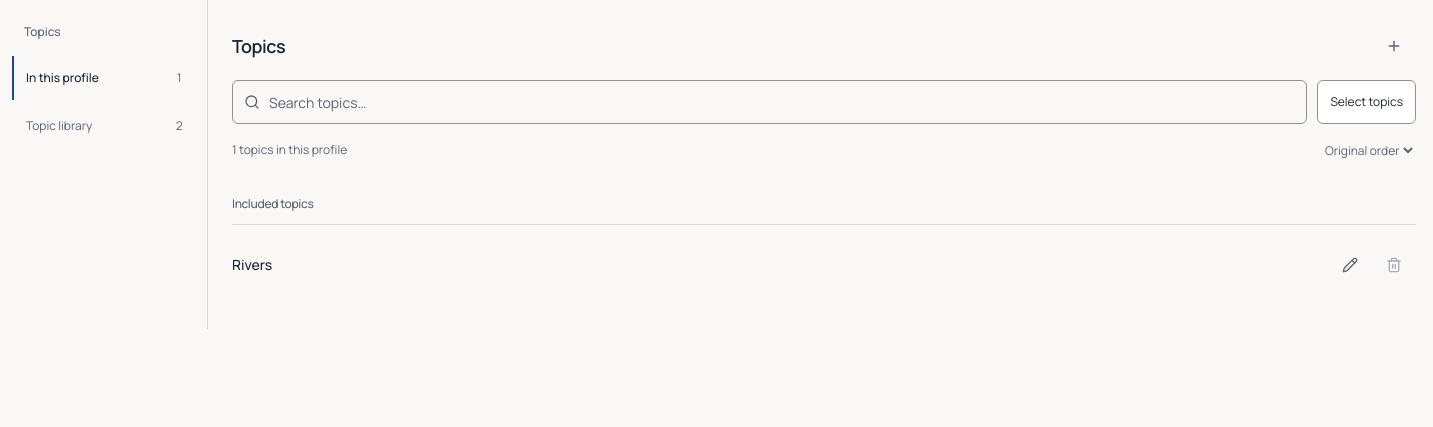
search and sorting do not mutate topic selection; bulk topics are deduplicated
This screenshot has width=1433, height=427.
Later steps or results of the test are not shown.
Type "Coasts" into the search field labelled "Search topics". click: (770, 102)
box: left=232, top=80, right=1307, bottom=124
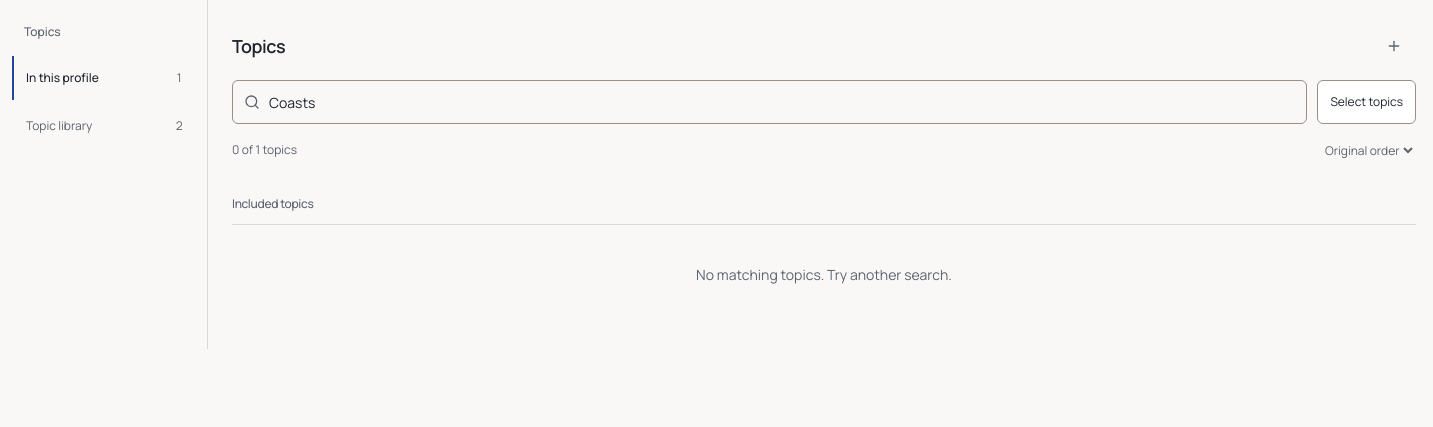
Select "A–Z" in the dropdown named "Sort topics". click: (1368, 150)
box: left=1321, top=128, right=1416, bottom=172
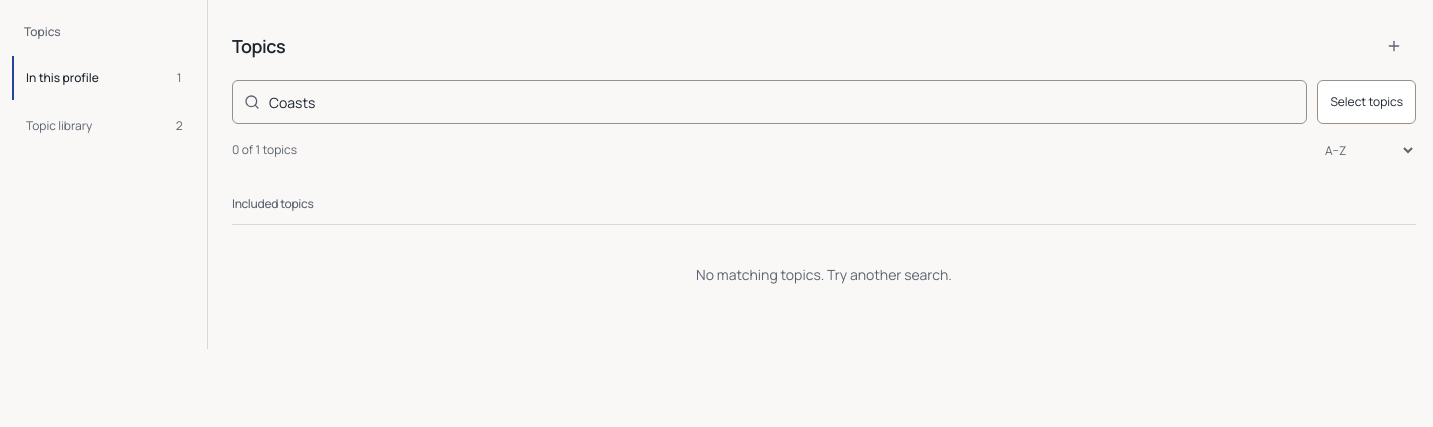
Click the button "Topic library 2". click: (104, 126)
box: left=12, top=104, right=195, bottom=148
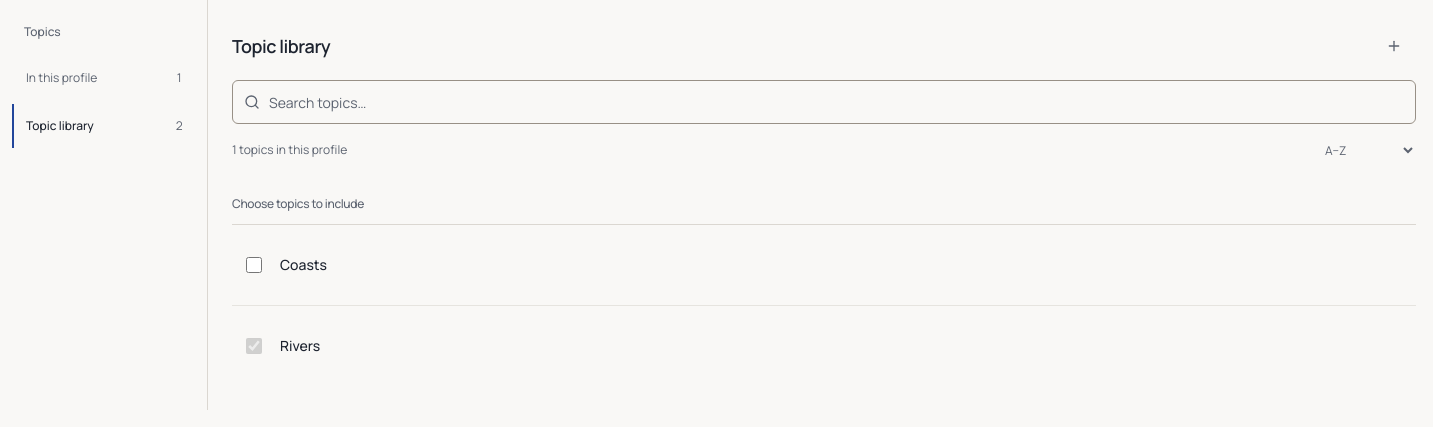
Expected: the checkbox named "Include Rivers" is checked, left=246, top=338, right=262, bottom=354
Expected: the checkbox named "Include Coasts" is not checked, left=246, top=257, right=262, bottom=273
